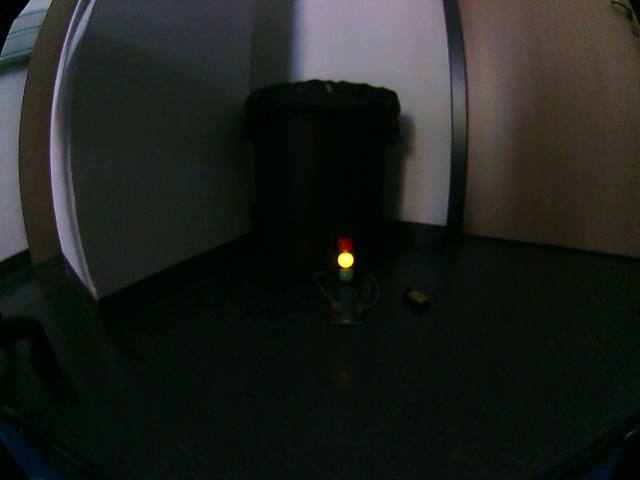yellow trafficlight: (336, 236, 355, 281)
